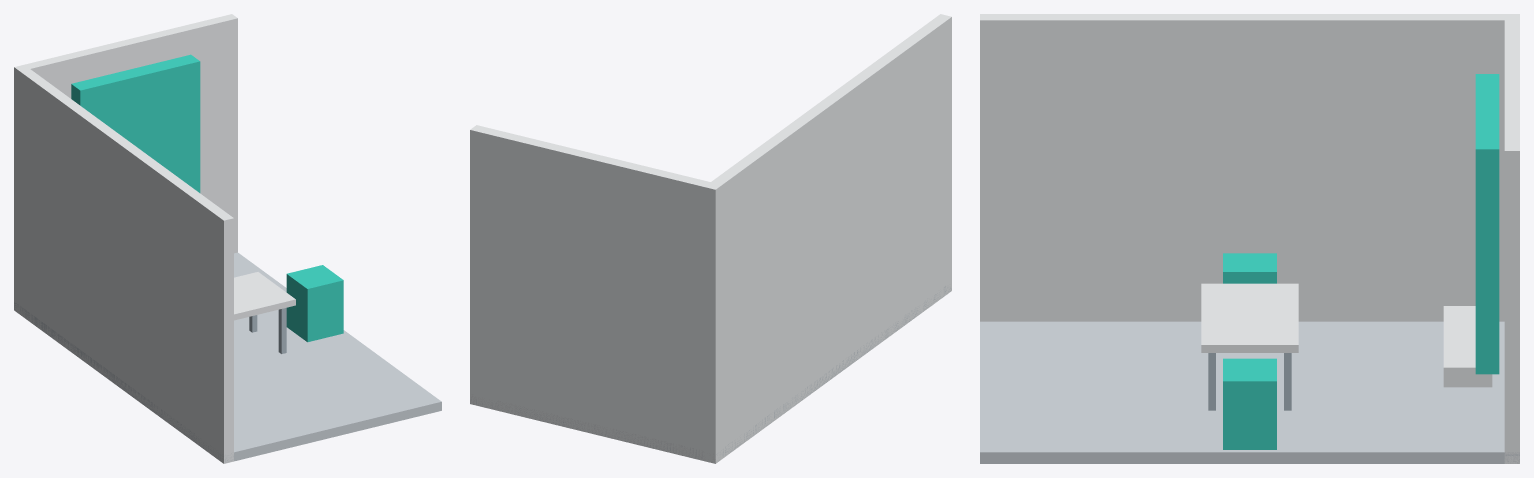
3 views of the same model, side by side, from view 1: azimuth 30°, elevation 25°; view 2: azimuth 150°, elevation 25°; view 3: azimuth 270°, elevation 25° (orthographic). The views are drawn at different scales.
Visible parts, largest first — view 1: Exhibition Booth Concept; view 2: Exhibition Booth Concept; view 3: Exhibition Booth Concept.
Part boxes in pixels (x1,y1,x2,y2): Exhibition Booth Concept: (14, 14, 441, 463); Exhibition Booth Concept: (470, 14, 951, 463); Exhibition Booth Concept: (980, 14, 1519, 463).
Bounding box in the file's own units: 3 × 3.2 × 5.
